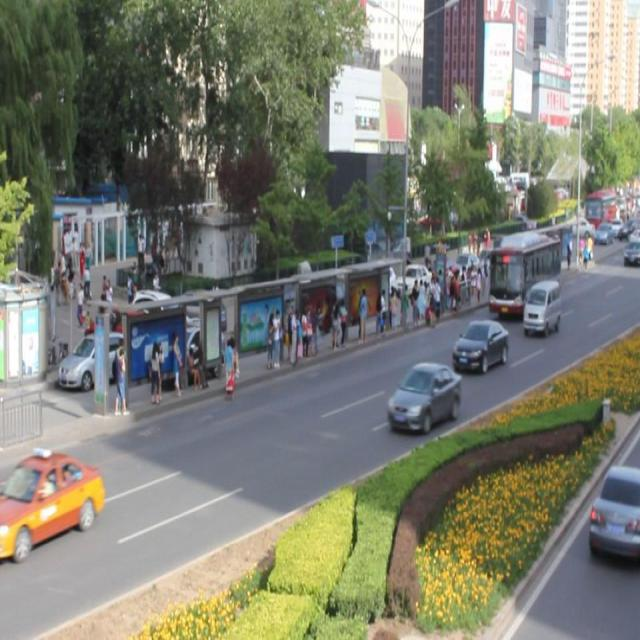car: (0, 429, 107, 591), (472, 220, 562, 316), (379, 359, 470, 445), (594, 438, 640, 582), (64, 312, 130, 405), (451, 316, 514, 382), (522, 280, 566, 340), (446, 237, 477, 292), (400, 252, 430, 304), (580, 183, 614, 221), (624, 222, 640, 277), (592, 225, 619, 254)
